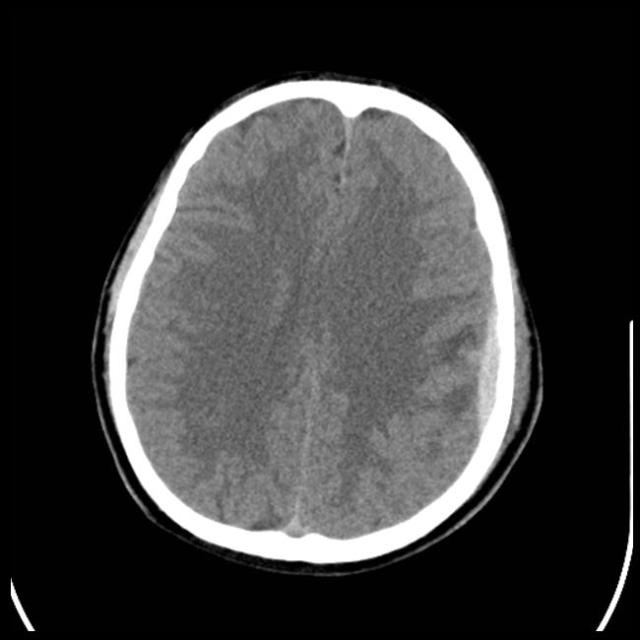lesion: (91, 72, 542, 569)
